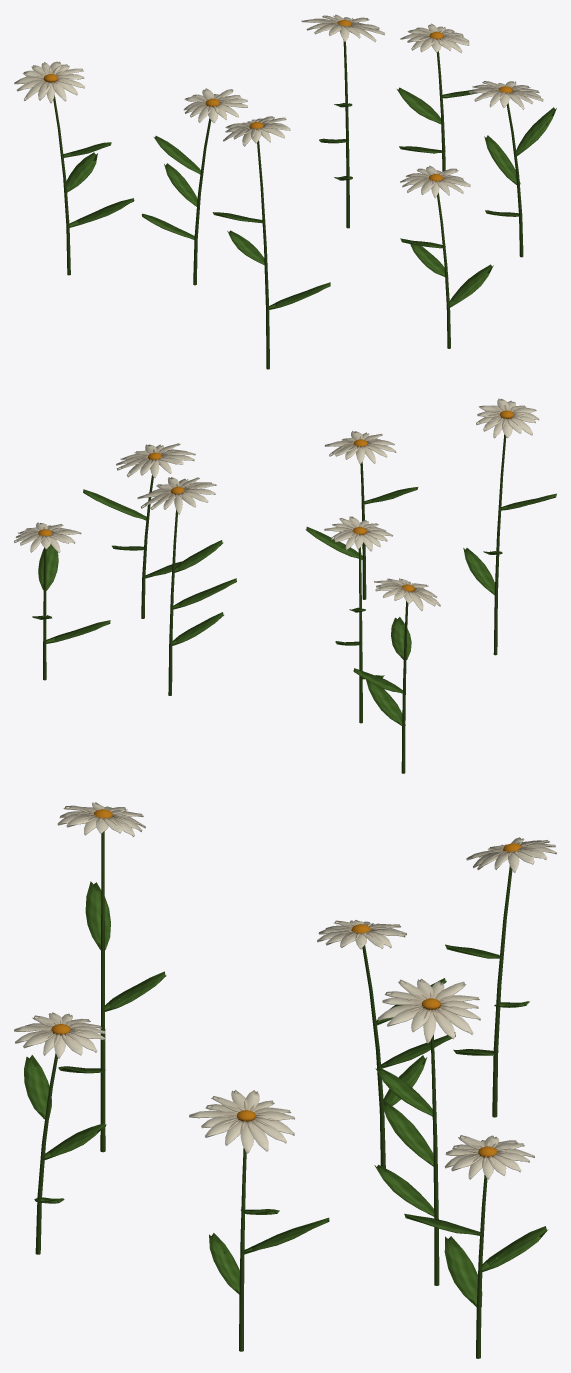
The model's file is flower_daisy.fbx.
3 views of the same model, one above another, from view 1: azimuth 30°, elevation 25°; view 2: azimuth 150°, elevation 25°; view 3: azimuth 270°, elevation 25° (orthographic). The views are drawn at different scales.
Parts seen in each view (by area): view 1: flower_daisy; view 2: flower_daisy; view 3: flower_daisy.
Part boxes in pixels (x1,y1,x2,y2): flower_daisy: (14, 14, 556, 369); flower_daisy: (14, 398, 556, 773); flower_daisy: (14, 802, 556, 1358).
Size of what is drawn, in the model's own units: 0.6528 by 0.3461 by 0.5112.
Materials: 1 (1 with a texture image).
